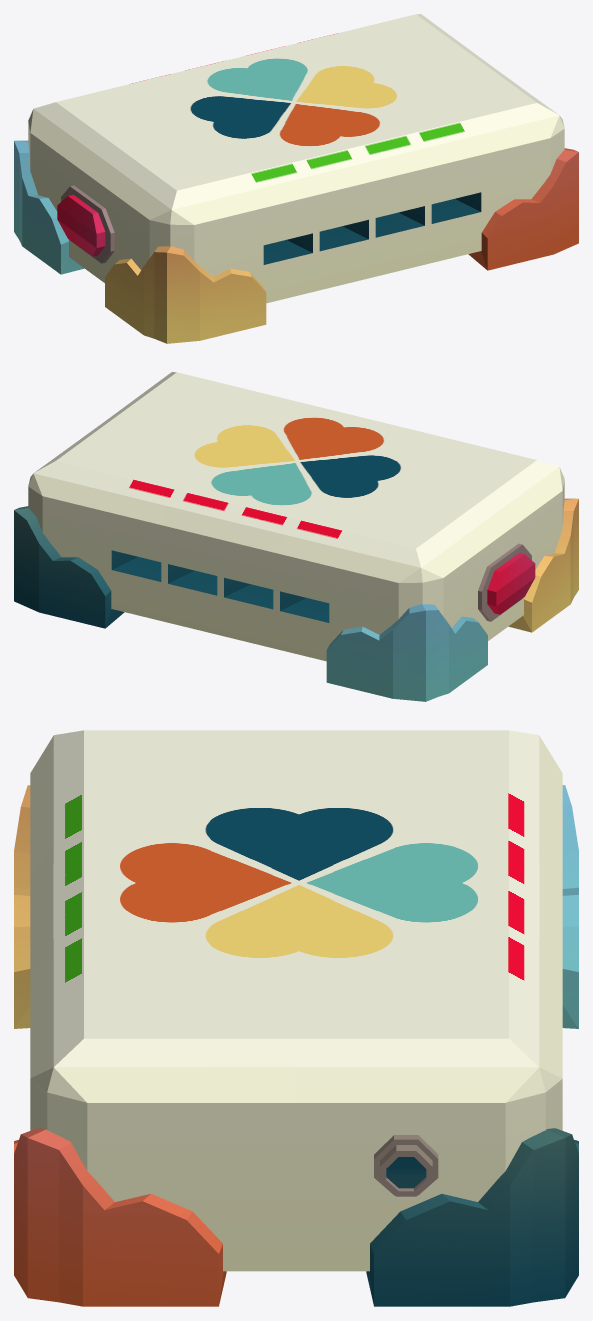
The model's file is pb_microcontroller.fbx.
The picture shows the model from 3 angles, top to bottom: view 1: azimuth 30°, elevation 25°; view 2: azimuth 150°, elevation 25°; view 3: azimuth 270°, elevation 25°; orthographic projection. The views are drawn at different scales.
Visible parts, largest first — view 1: hub, hub.002; view 2: hub, hub.002; view 3: hub.002, hub.
Part boxes in pixels (box(x1,y1,x2,y2)): hub: box(14, 109, 578, 343); hub.002: box(34, 14, 558, 209); hub: box(14, 467, 578, 701); hub.002: box(34, 372, 558, 567); hub.002: box(53, 730, 539, 1067); hub: box(14, 736, 578, 1306).
Size of the model in its own units: 102 by 30.37 by 65.01.
